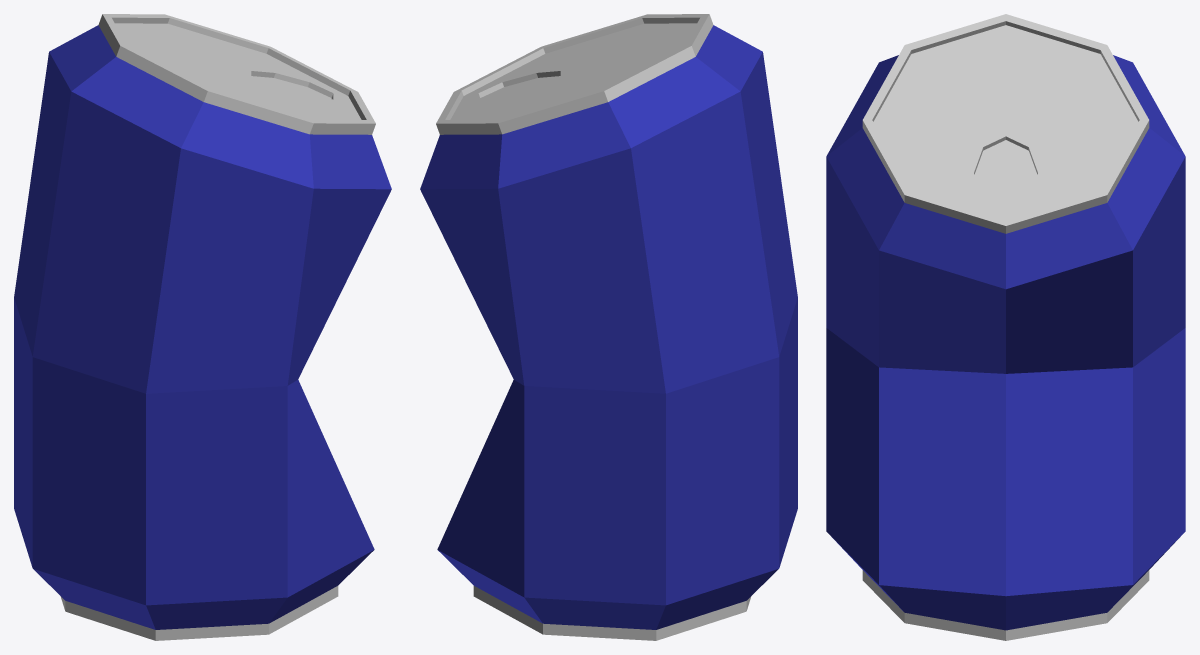
Rendered from crumpled_can4.fbx.
3 renders of one model, left to right at view 1: azimuth 30°, elevation 25°; view 2: azimuth 150°, elevation 25°; view 3: azimuth 270°, elevation 25°, orthographic. The views are drawn at different scales.
Visible parts, largest first — view 1: crumpled_can4; view 2: crumpled_can4; view 3: crumpled_can4.
Boxes of the visible parts, x1=… form: crumpled_can4: x1=14, y1=14, x2=391, y2=640; crumpled_can4: x1=420, y1=14, x2=797, y2=640; crumpled_can4: x1=826, y1=14, x2=1185, y2=640.
Bounding box in the file's own units: 0.0937 × 0.1468 × 0.0899.
